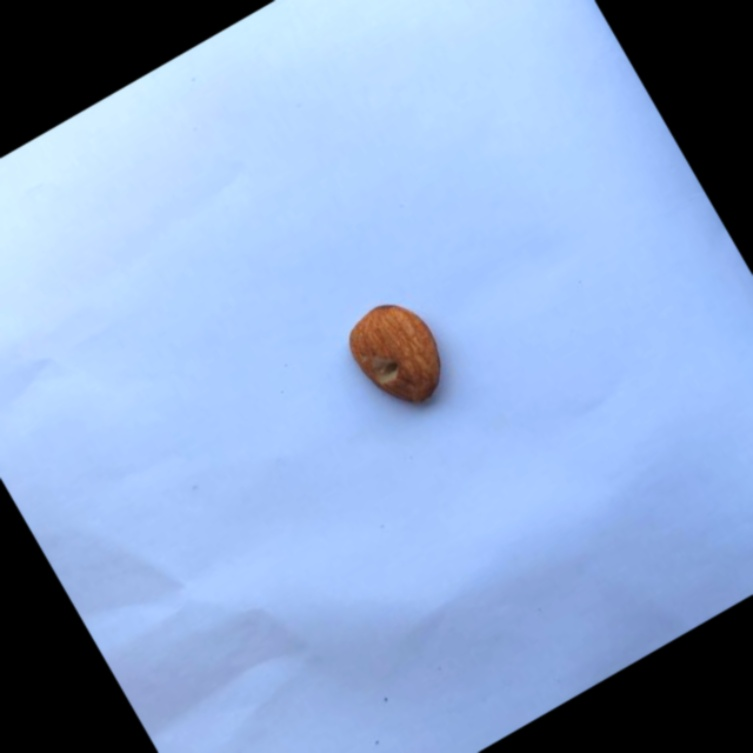grade3: (330, 284, 464, 429)
